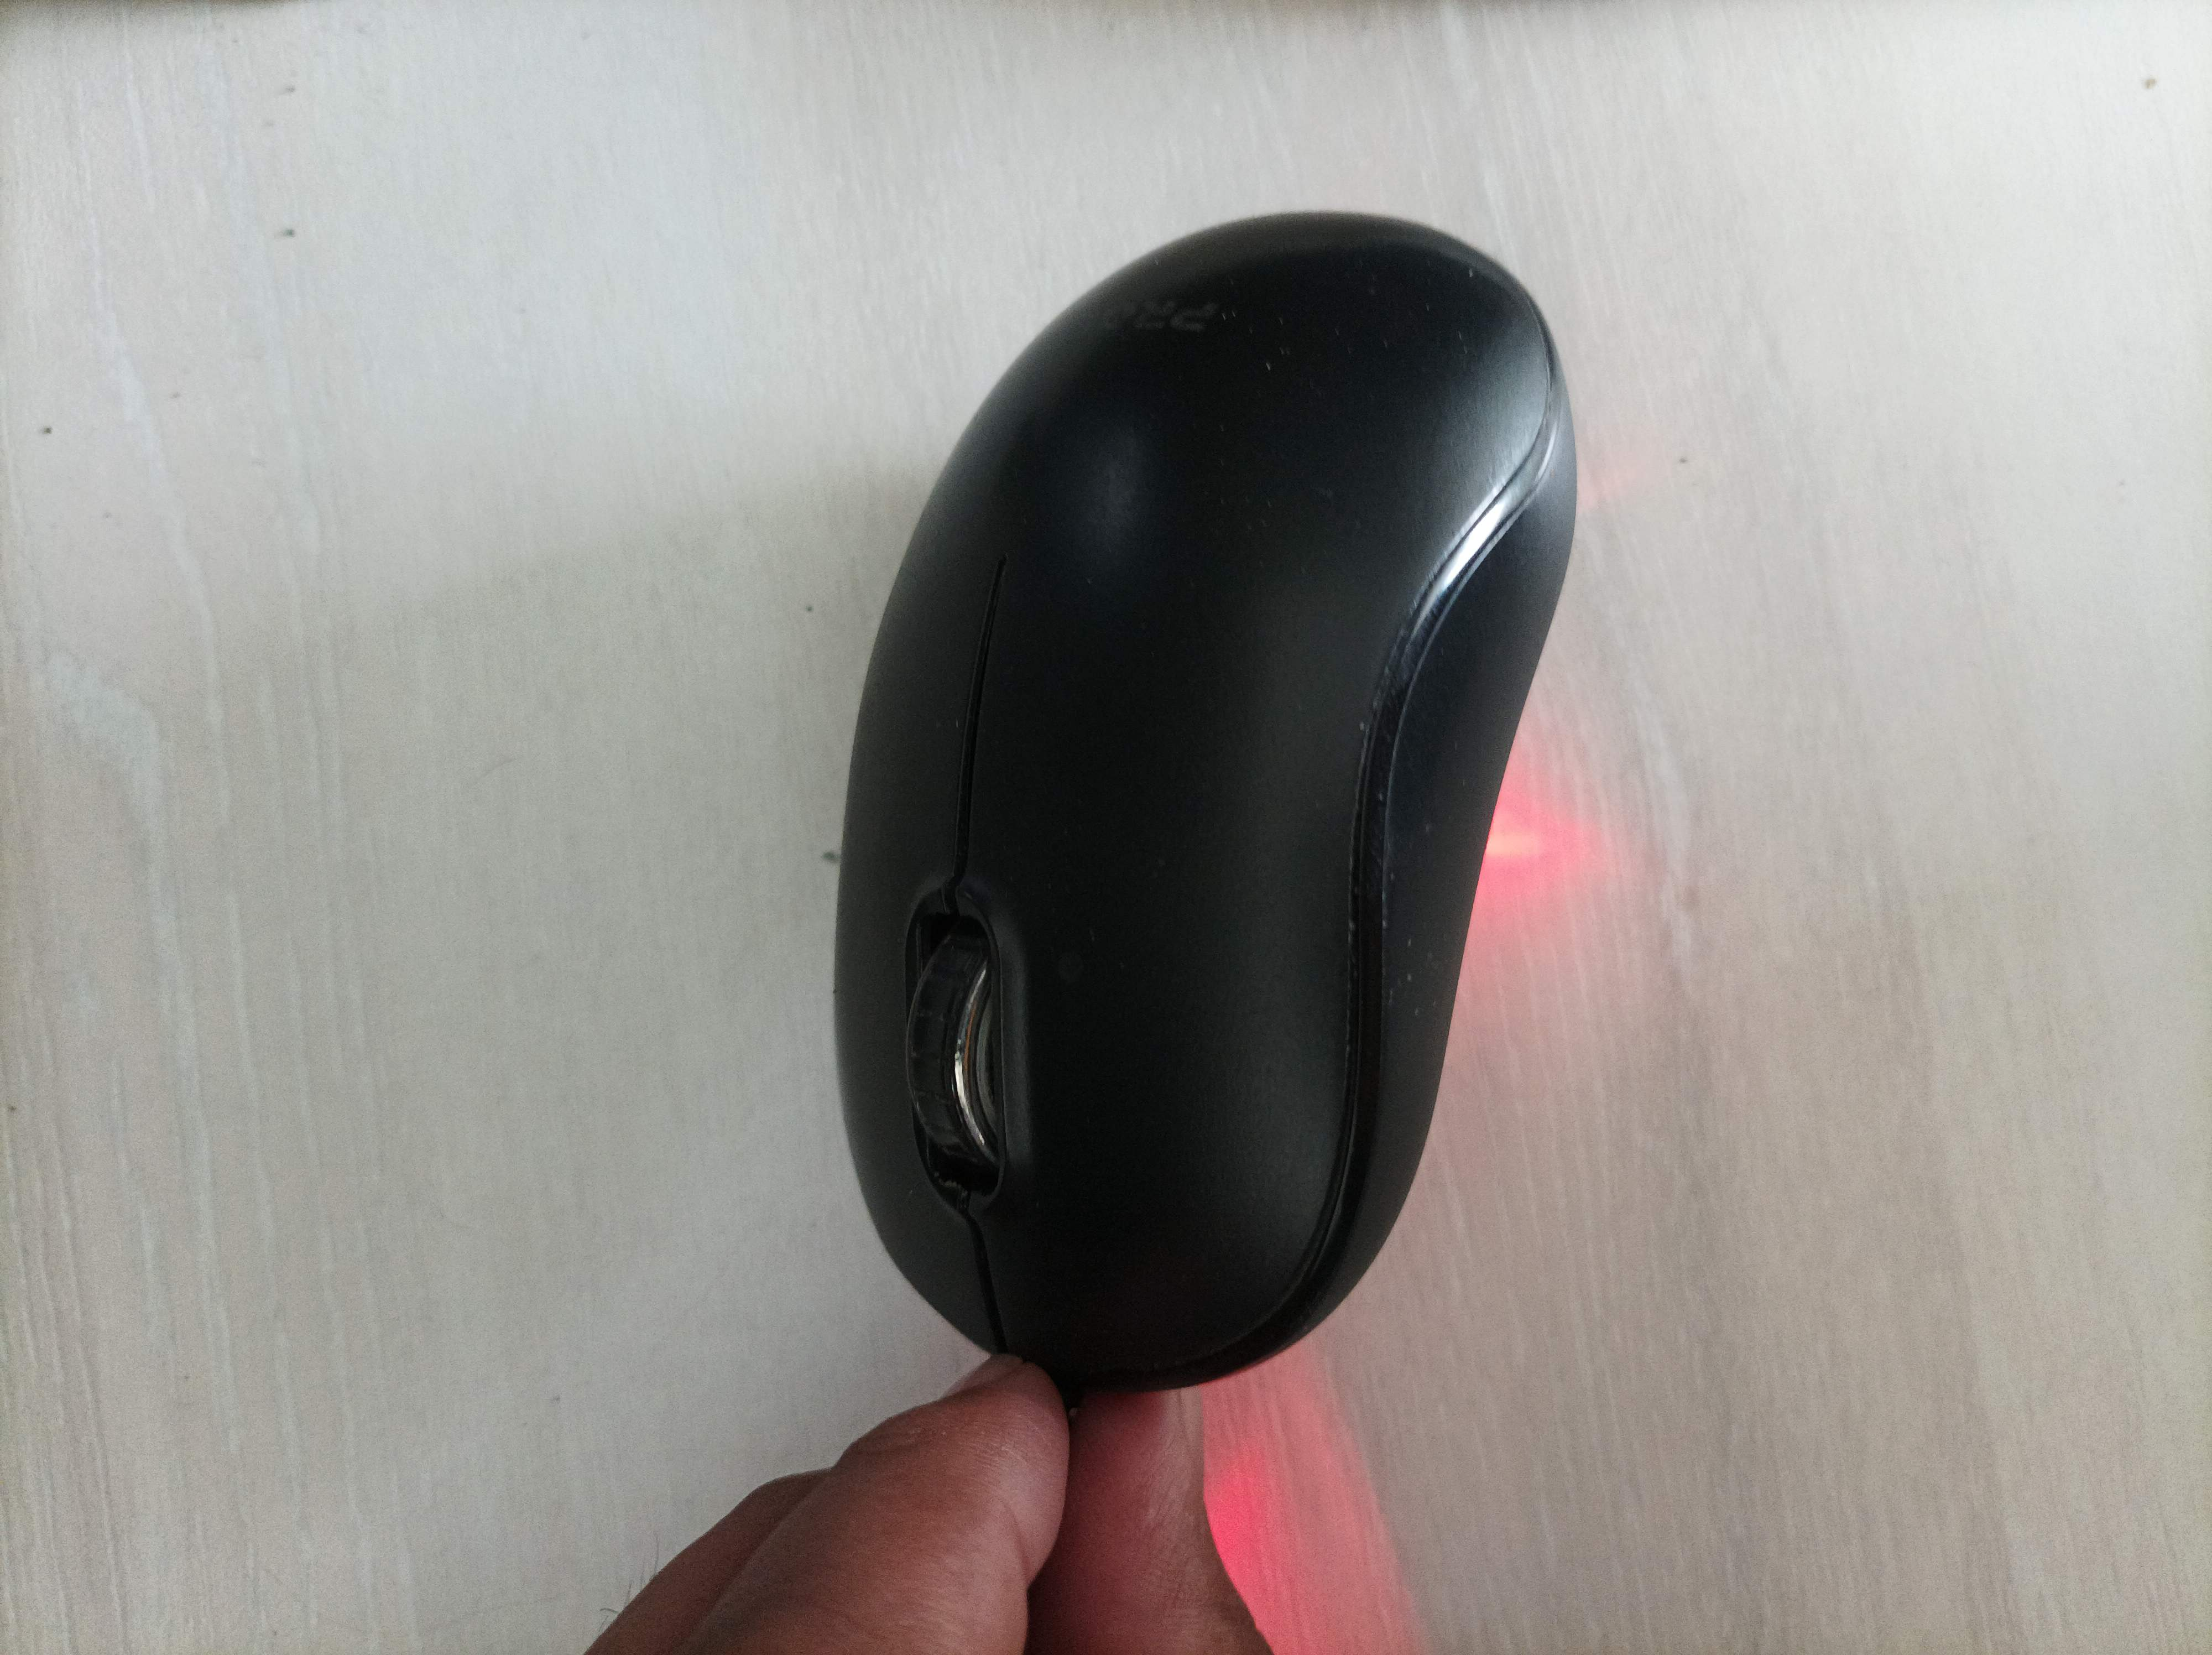mouse: (808, 189, 1588, 1427)
